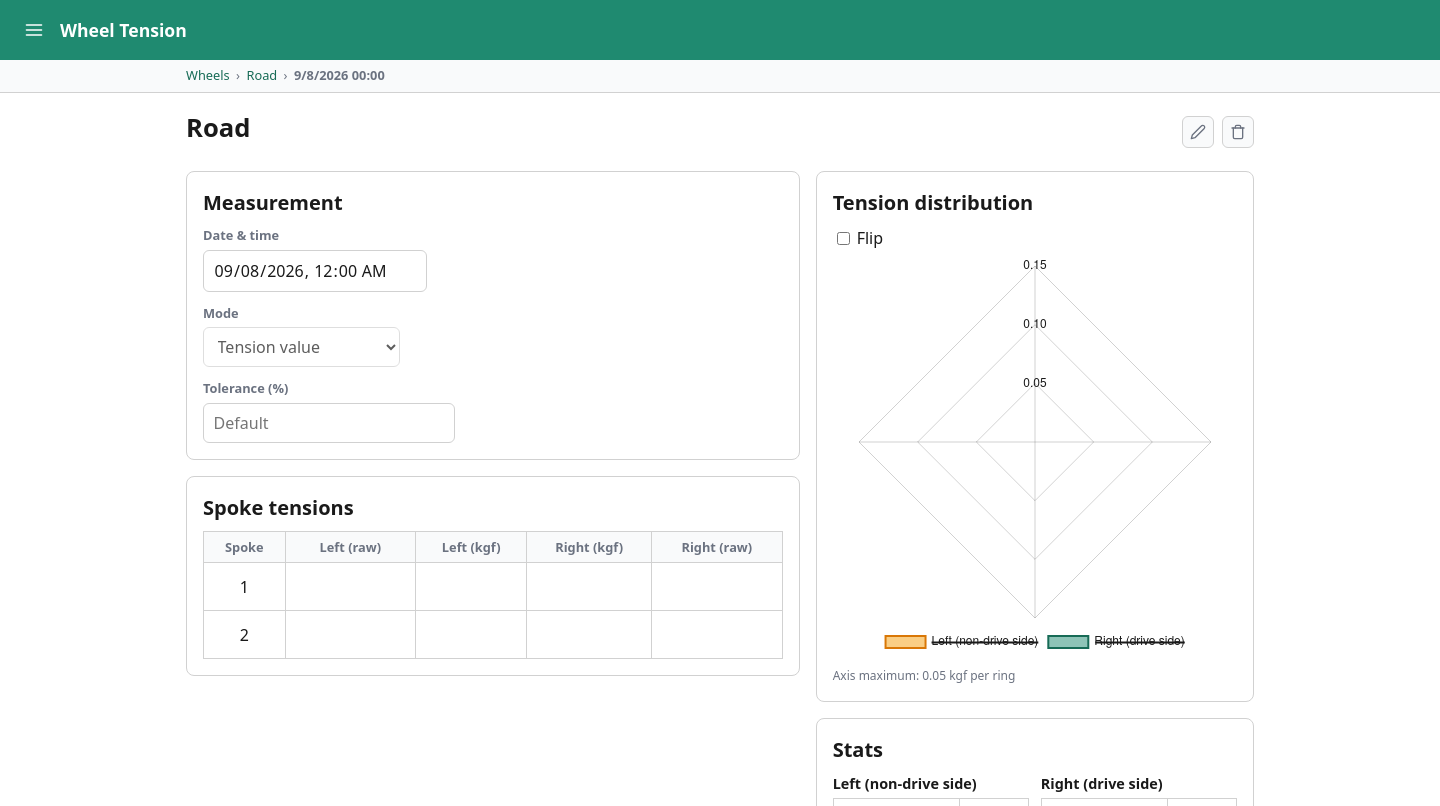
Test: MeasurementDetailPage › navigates to the edit page via the edit icon
The width and height of the screenshot is (1440, 806).
Click the button named "Edit measurement" at (1198, 132), box [1182, 116, 1214, 148]
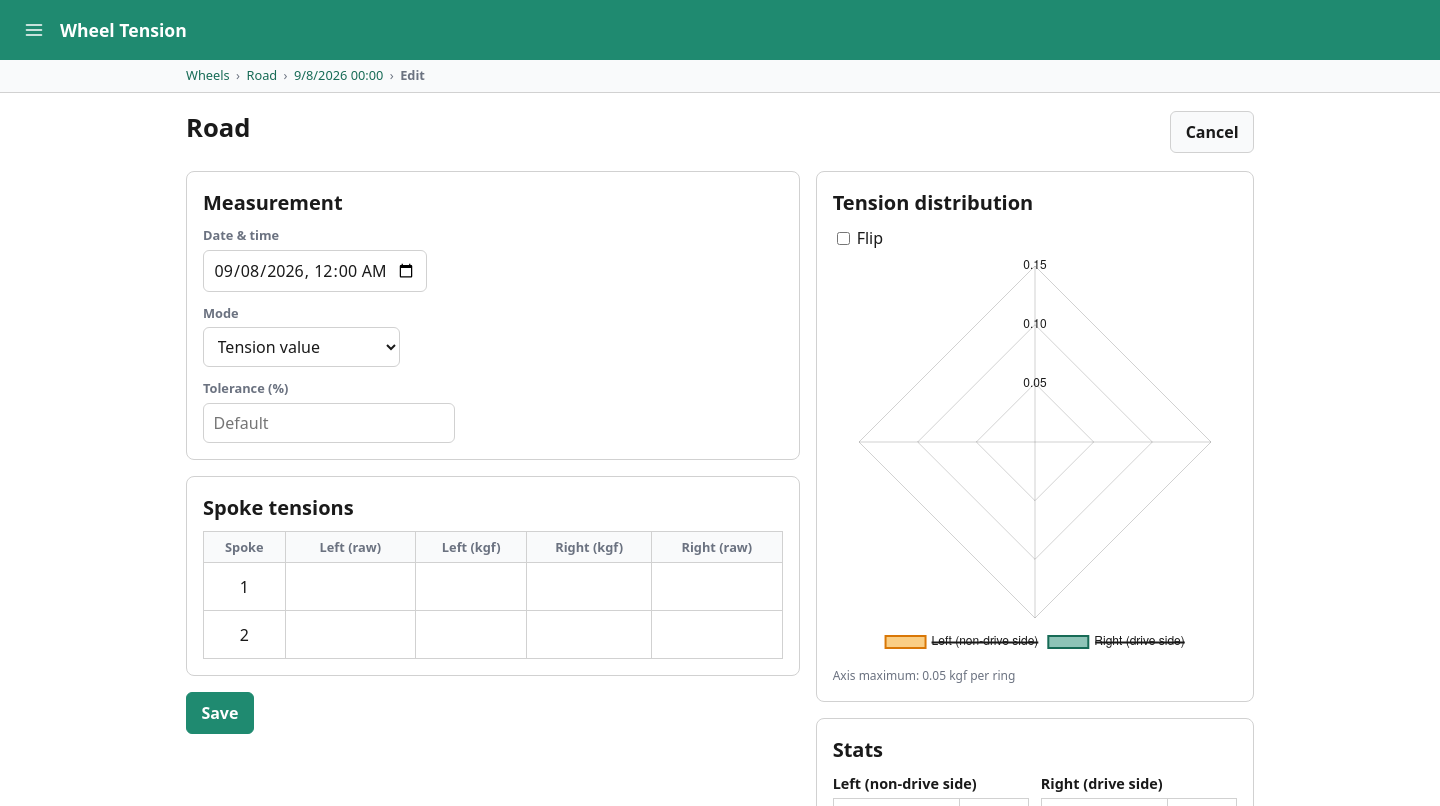
Check: the button "Save" is shown, box [186, 692, 254, 734]
